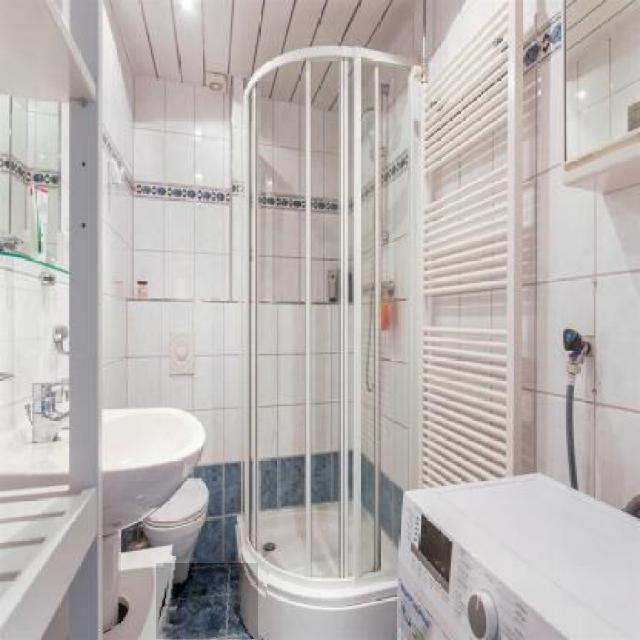floor: (156, 564, 258, 640)
